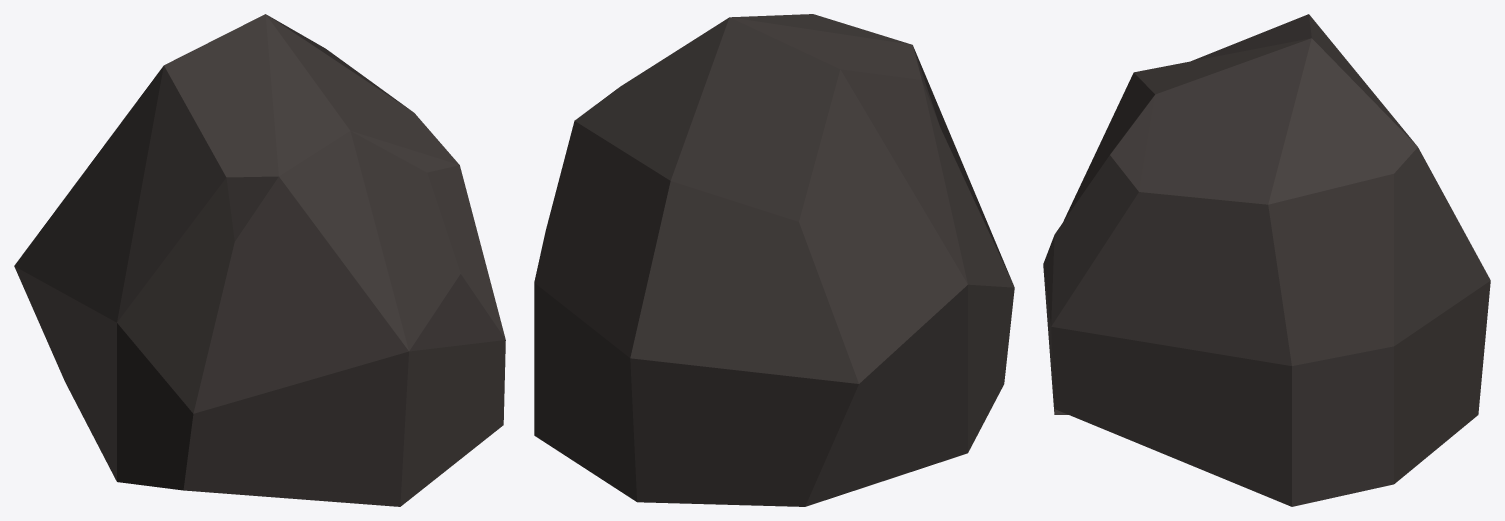
File: rock2.fbx
The picture shows the model from 3 angles, left to right: view 1: azimuth 30°, elevation 25°; view 2: azimuth 150°, elevation 25°; view 3: azimuth 270°, elevation 25°; orthographic projection. The views are drawn at different scales.
Parts seen in each view (by area): view 1: rock2; view 2: rock2; view 3: rock2.
Boxes of the visible parts, bbox=[...] form: rock2: bbox=[14, 14, 505, 506]; rock2: bbox=[534, 14, 1014, 506]; rock2: bbox=[1043, 14, 1490, 506].
Size of the model in its own units: 111 by 112 by 119.
